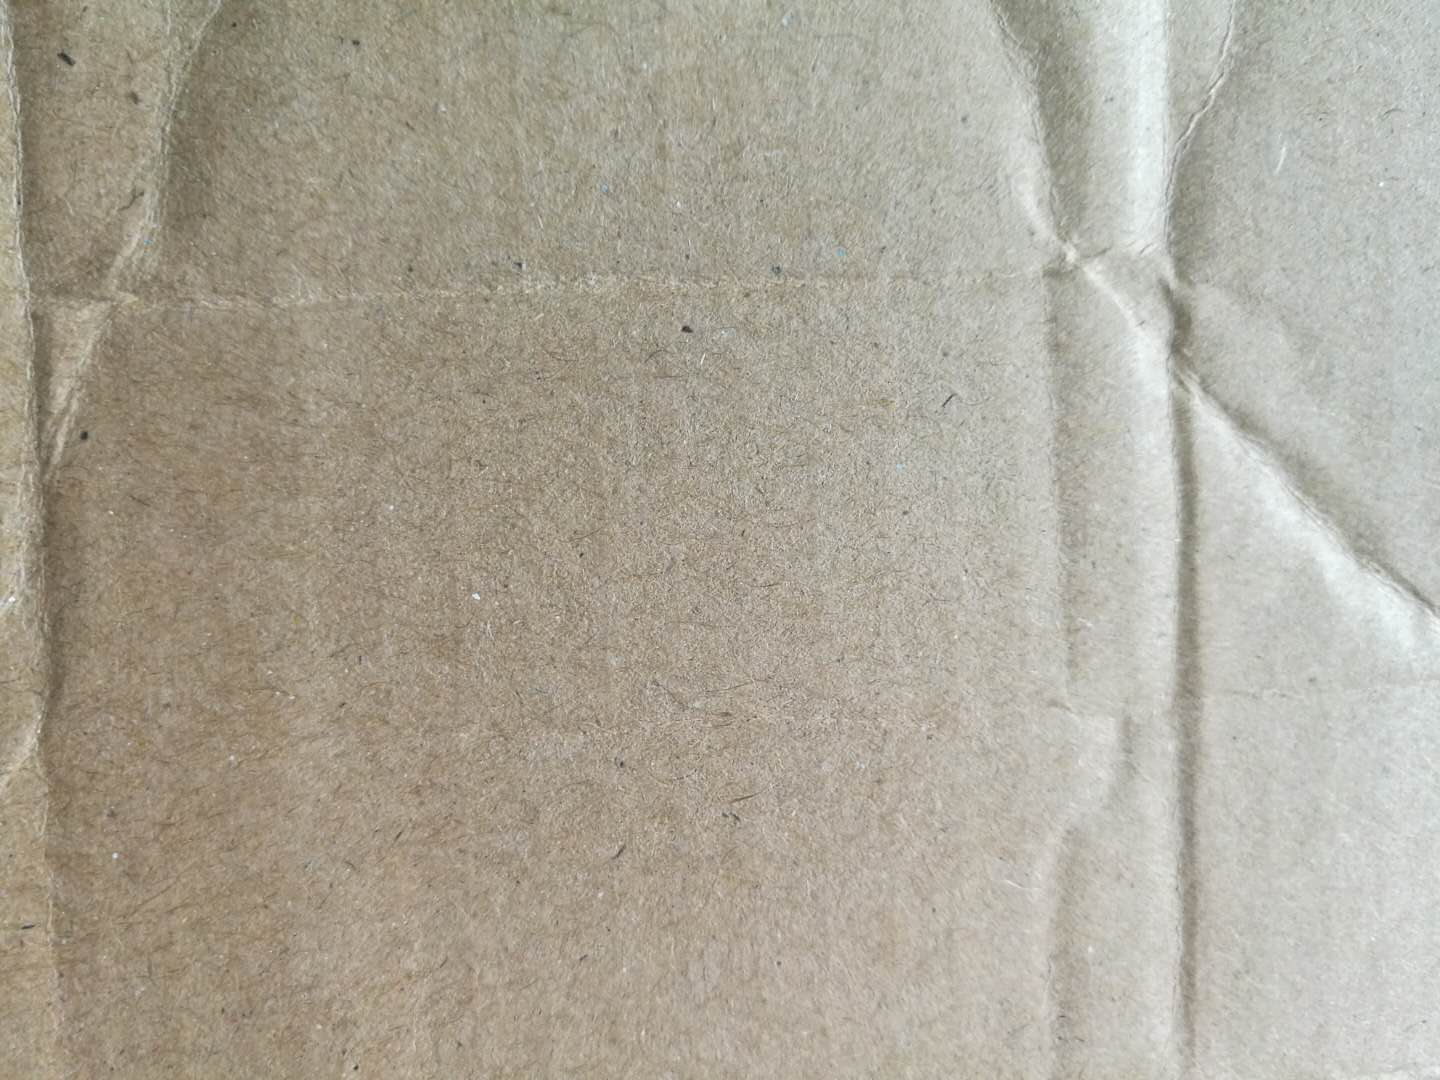defect: (1113, 2, 1301, 1075), (971, 2, 1155, 1079), (1, 2, 249, 802), (1064, 241, 1440, 658), (5, 227, 1124, 351)
